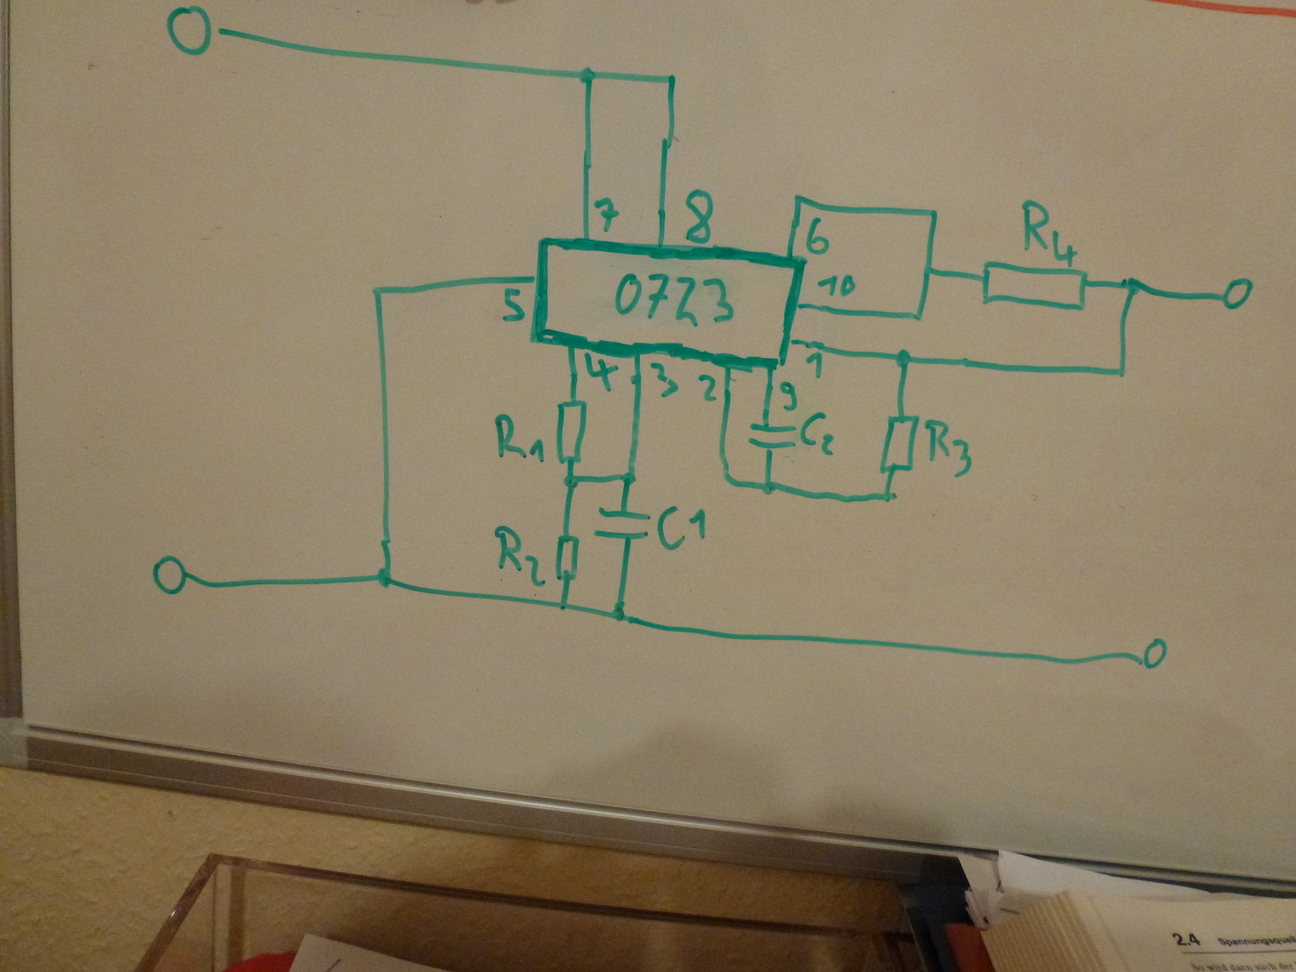capacitor.unpolarized: (592, 499, 654, 555), (747, 414, 796, 461)
integrated_circuit: (529, 237, 808, 373)
junction: (1115, 271, 1147, 303), (889, 345, 919, 374), (575, 63, 602, 90), (372, 565, 398, 593), (556, 469, 581, 493), (606, 602, 628, 630), (715, 461, 735, 491), (758, 475, 781, 500), (877, 489, 903, 508), (617, 468, 640, 489), (923, 203, 944, 224), (662, 68, 683, 89), (1113, 360, 1133, 382), (553, 595, 571, 617), (790, 190, 808, 209), (920, 261, 936, 281), (911, 305, 927, 325), (369, 284, 387, 300)
resistor: (974, 257, 1093, 315), (876, 411, 920, 477), (553, 395, 591, 466), (553, 529, 582, 588)
terminal: (163, 4, 225, 61), (150, 548, 197, 600), (1217, 272, 1259, 314), (1130, 634, 1172, 676)
text: (612, 269, 740, 330), (1018, 196, 1083, 268), (489, 521, 552, 588), (921, 418, 976, 479), (492, 412, 548, 468), (654, 501, 710, 554), (681, 188, 718, 245), (797, 408, 837, 458), (580, 351, 622, 393), (647, 360, 682, 402), (592, 194, 622, 237), (815, 272, 857, 300), (805, 216, 834, 257), (501, 285, 528, 327), (692, 369, 720, 405), (776, 379, 800, 412), (804, 351, 825, 381)
